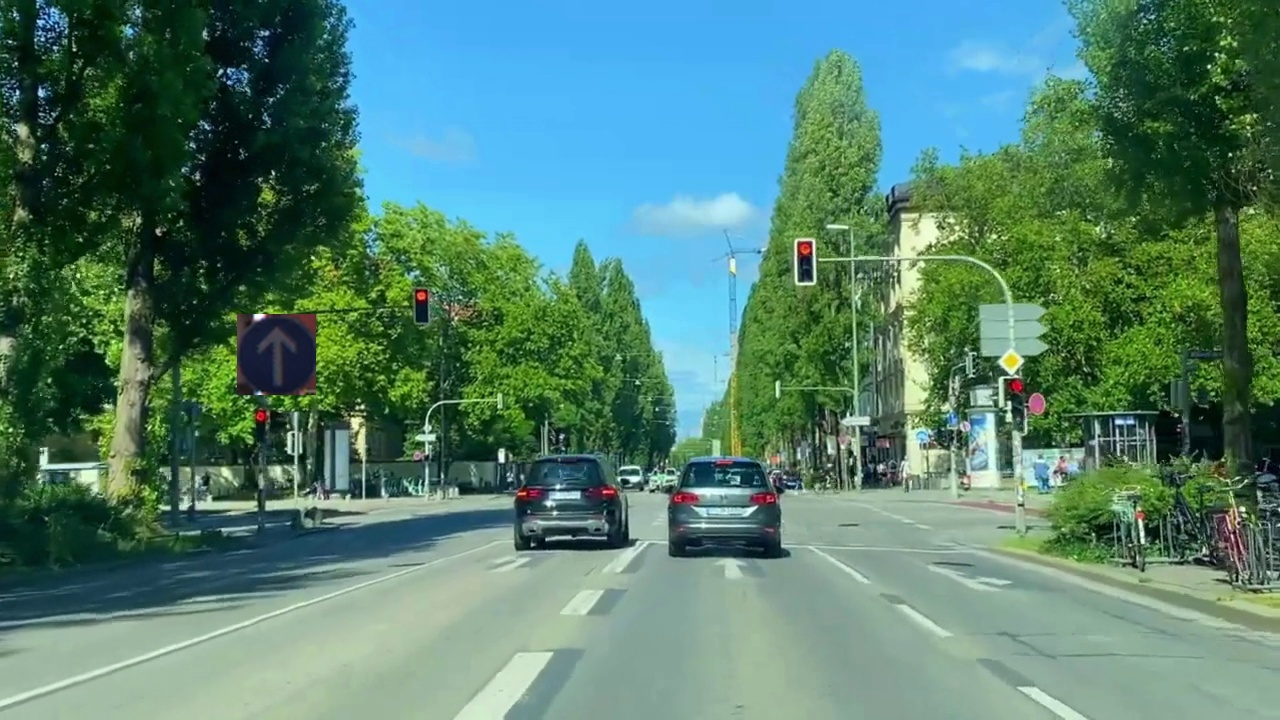Ahead only: (237, 314, 316, 395)
